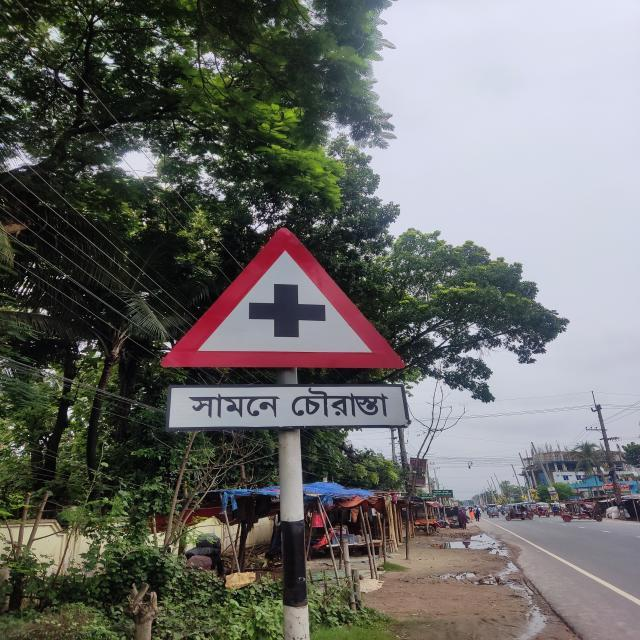Crossroads-ahead: (157, 231, 411, 431)
